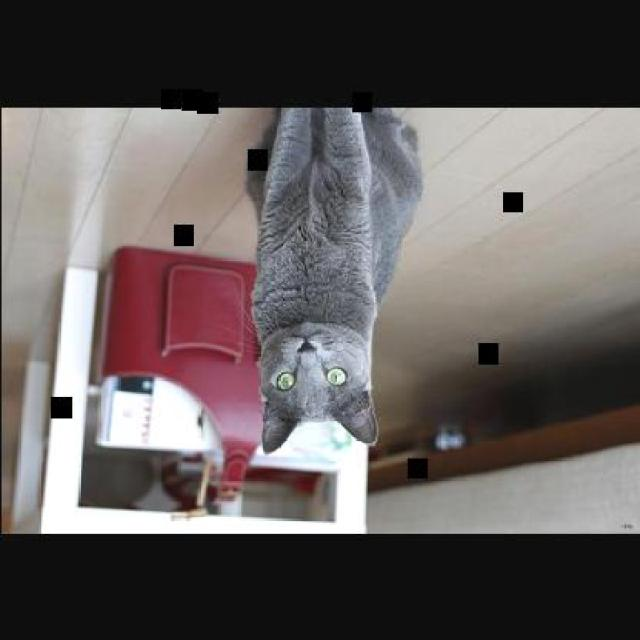unauthorized: (243, 106, 423, 454)
